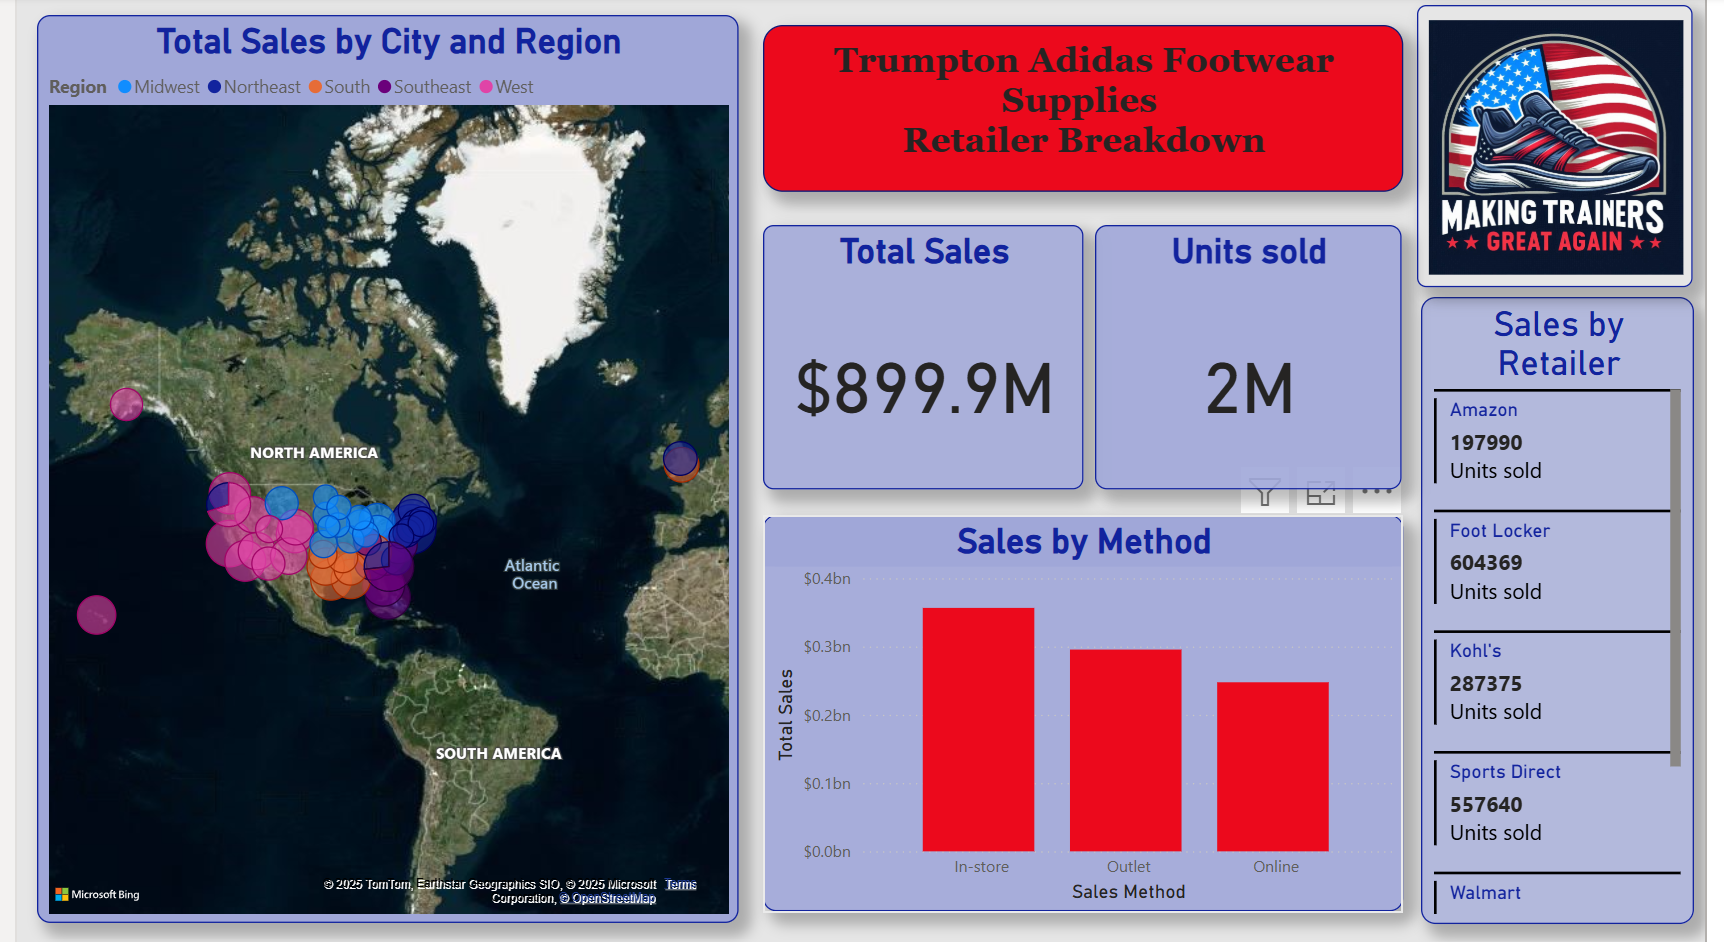

The dashboard page shown, as its layout file describes it:
{"tool":"powerbi","page":{"name":"Retailer breakdown","canvas":[1280,720],"ordinal":2},"visuals":[{"type":"map","title":"Total Sales by City and Region","fields":{"Series":["Data_Sales_Adidas.Region"],"Category":["Data_Sales_Adidas.City"],"Size":["Sum(Data_Sales_Adidas.Total Sales)"]},"box":[15.6,15.6,532,688.6],"z":0},{"type":"clusteredColumnChart","title":"Sales by Method","fields":{"Category":["Data_Sales_Adidas.Sales Method"],"Y":["Sum(Data_Sales_Adidas.Total Sales)"]},"box":[565.1,394.9,485.3,300.5],"z":1000},{"type":"multiRowCard","title":"Sales by Retailer","fields":{"Values":["Data_Sales_Adidas.Retailer","Sum(Data_Sales_Adidas.Units sold)"]},"box":[1064.1,228.6,207.2,475.6],"z":2000},{"type":"card","title":"Total Sales","fields":{"Values":["Sum(Data_Sales_Adidas.Total Sales)"]},"box":[565.1,175.1,243.2,200.4],"z":3000},{"type":"card","title":"Units sold","fields":{"Values":["Sum(Data_Sales_Adidas.Units sold)"]},"box":[818,175.1,232.5,200.4],"z":4000},{"type":"image","box":[1062.1,7.8,209.1,214],"z":5000},{"type":"textbox","box":[565.1,22.4,485.3,126.4],"z":6000}]}

Visuals, with their boxes in screenshot pixels (x1, y1, x2, y2), scaled from the page's 1280x720 canvas onto the 1724x942 screenshot:
"Total Sales by City and Region" map: select_region(21, 20, 738, 921)
"Sales by Method" clusteredColumnChart: select_region(761, 517, 1415, 910)
"Sales by Retailer" multiRowCard: select_region(1433, 299, 1712, 921)
"Total Sales" card: select_region(761, 229, 1089, 491)
"Units sold" card: select_region(1102, 229, 1415, 491)
image: select_region(1431, 10, 1712, 290)
textbox: select_region(761, 29, 1415, 195)
